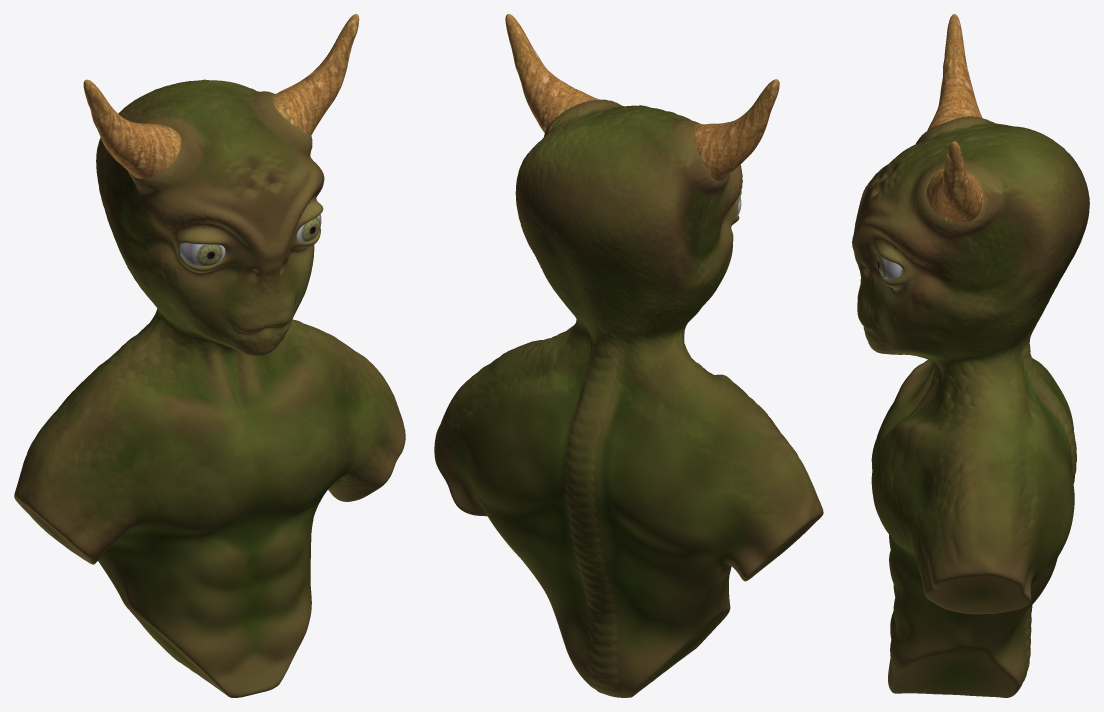
The model's file is Monster's Body.glb.
3 views of the same model, side by side, from view 1: azimuth 30°, elevation 25°; view 2: azimuth 150°, elevation 25°; view 3: azimuth 270°, elevation 25° (orthographic). The views are drawn at different scales.
Visible parts, largest first — view 1: Corps; view 2: Corps; view 3: Corps.
Part boxes in pixels (x1=…): Corps: x1=14, y1=14, x2=405, y2=697; Corps: x1=434, y1=14, x2=823, y2=697; Corps: x1=852, y1=14, x2=1089, y2=697.
Size of the model in its own units: 8199 by 13301 by 4674.
1 material, 1 textured.
